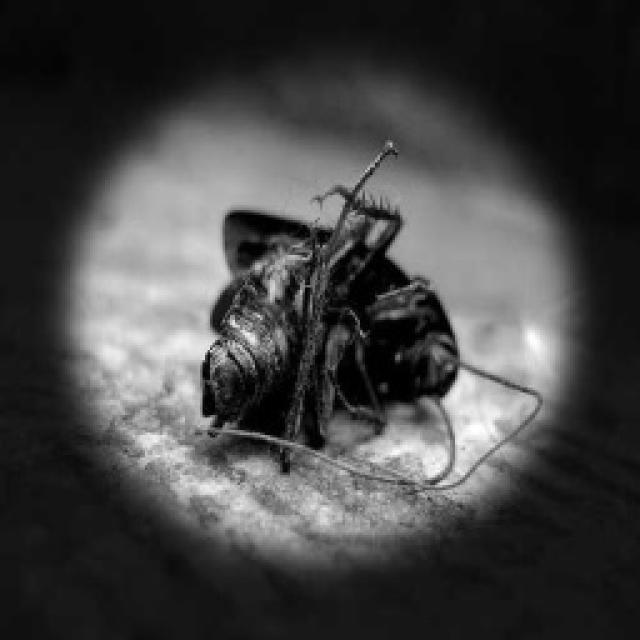cockroach: (194, 135, 546, 494)
